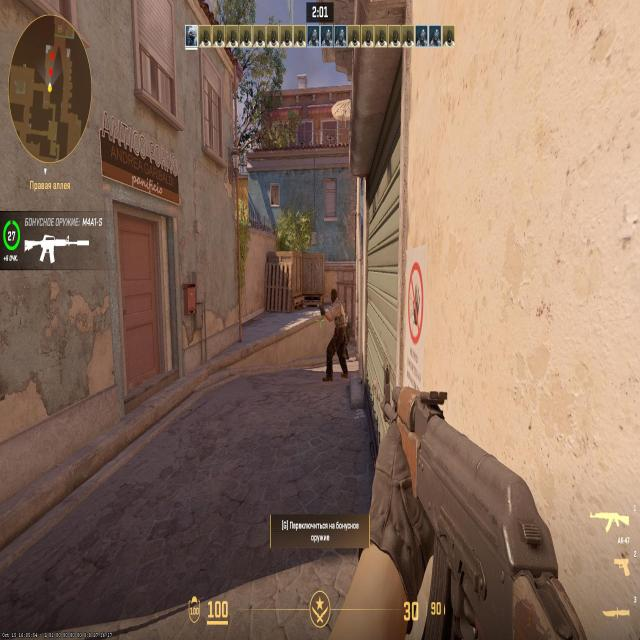T: (330, 288, 345, 381)
T_heat: (330, 293, 337, 311)
